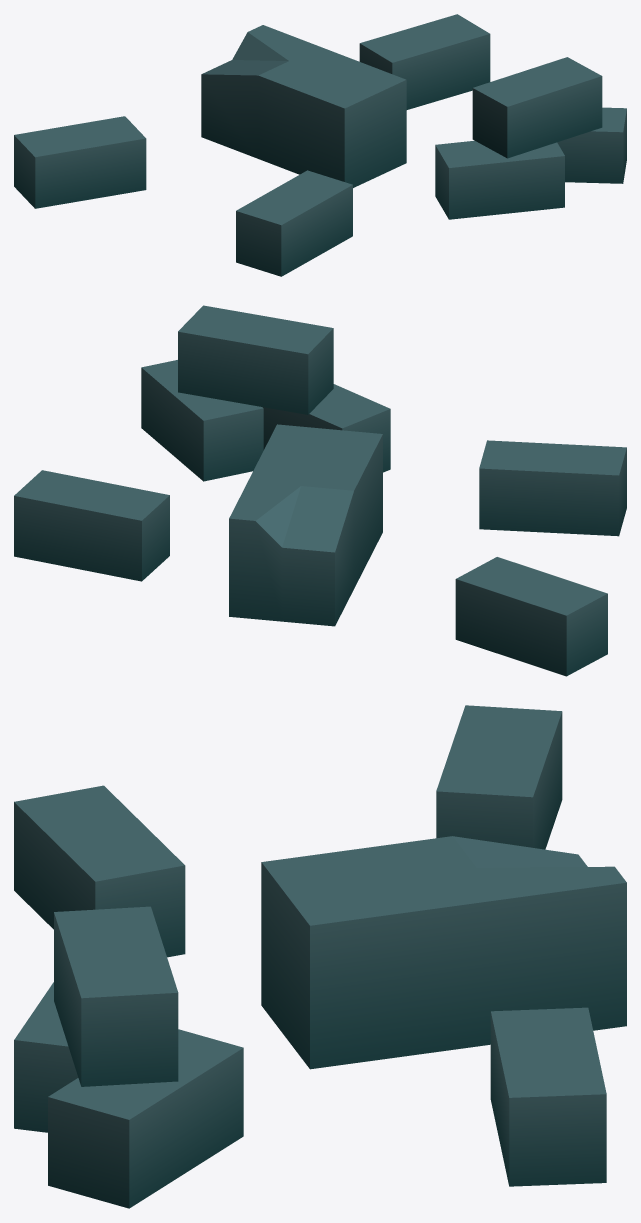
3 views of the same model, one above another, from view 1: azimuth 30°, elevation 25°; view 2: azimuth 150°, elevation 25°; view 3: azimuth 270°, elevation 25° (orthographic). The views are drawn at different scales.
Visible parts, largest first — view 1: Cube.052; view 2: Cube.052; view 3: Cube.052.
Part boxes in pixels (x1,y1,x2,y2): Cube.052: (14, 14, 626, 276); Cube.052: (14, 305, 626, 676); Cube.052: (14, 705, 626, 1208).
Size of the model in its own units: 12.39 by 2.5 by 7.74.
